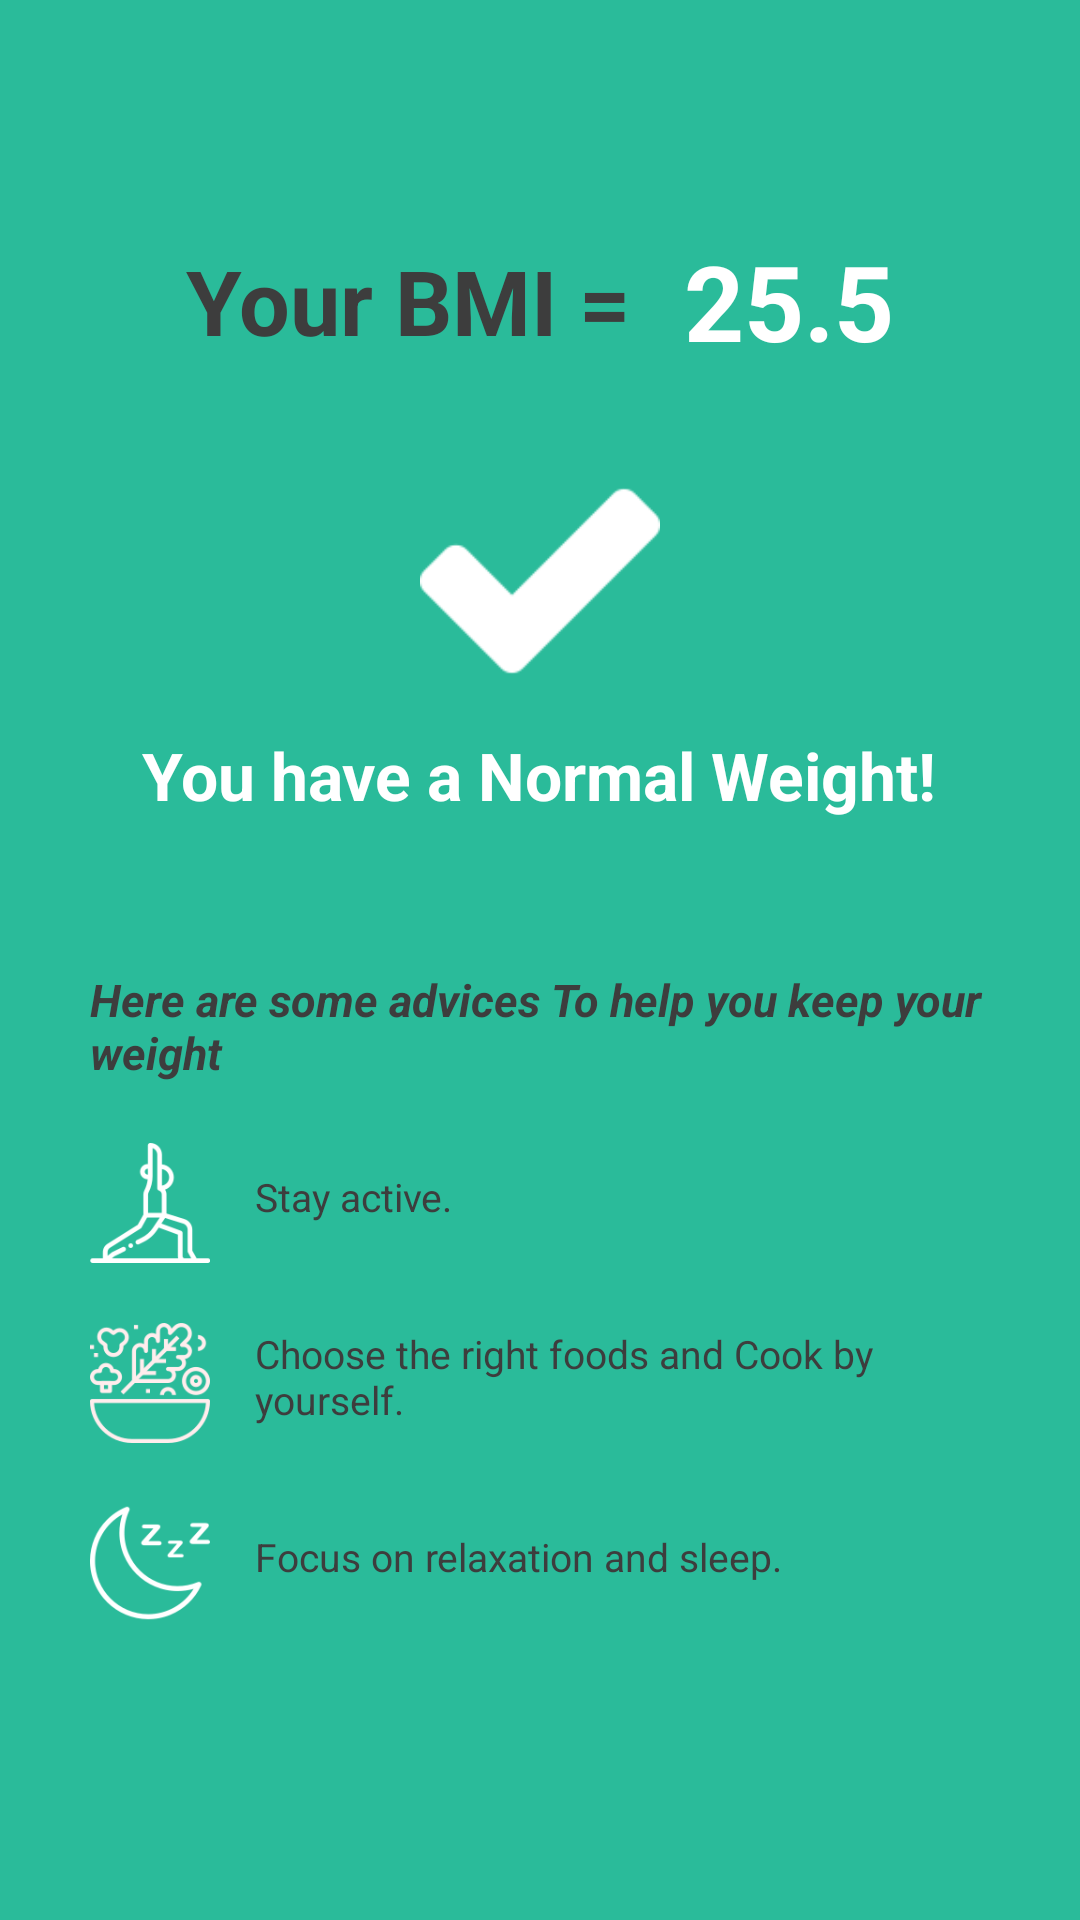

Locate icon controls on the screen. Image size 1080 × 1920, boxes as (x1, y1, x2, y2).
correct: (420, 488, 660, 674)
salad: (90, 1323, 210, 1443)
